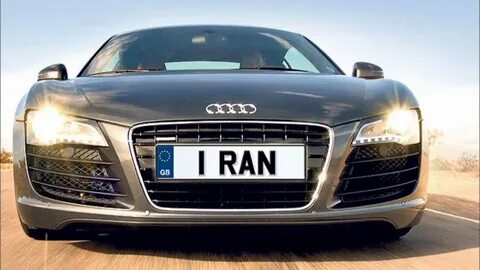number_plate: (156, 144, 306, 180)
